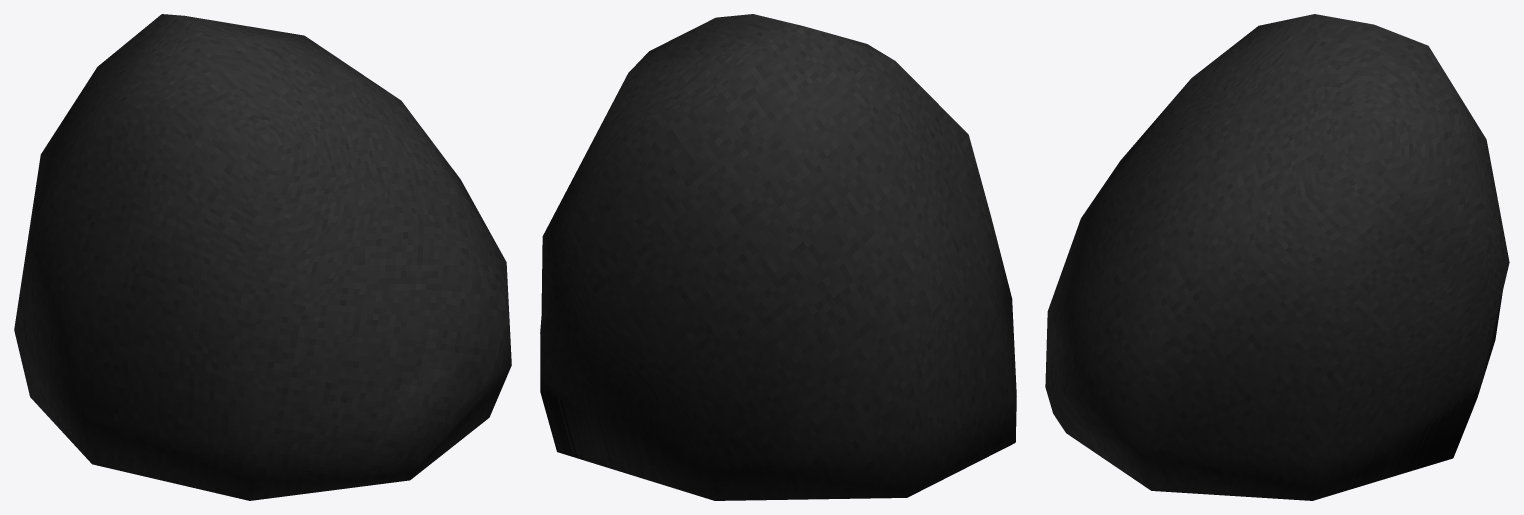
File: rock_1.glb
The picture shows the model from 3 angles, left to right: view 1: azimuth 30°, elevation 25°; view 2: azimuth 150°, elevation 25°; view 3: azimuth 270°, elevation 25°; orthographic projection. The views are drawn at different scales.
Visible parts, largest first — view 1: Rock_k; view 2: Rock_k; view 3: Rock_k.
Part boxes in pixels (left/top/right/bottom): Rock_k: left=14, top=14, right=511, bottom=500; Rock_k: left=540, top=14, right=1016, bottom=500; Rock_k: left=1045, top=14, right=1509, bottom=500.
Bounding box in the file's own units: 0.8233 × 0.7794 × 0.8531.
1 material, 1 textured.
